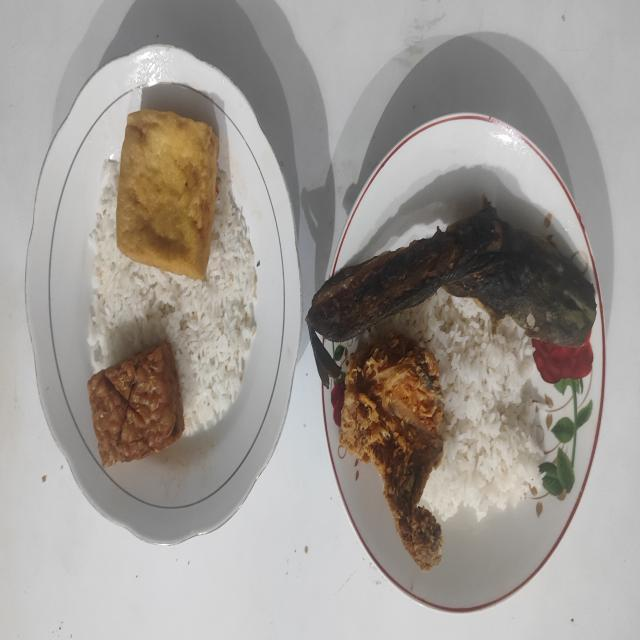nasi_putih: (88, 160, 256, 436), (371, 288, 545, 522)
tahu_goreng: (116, 110, 219, 278)
tempe_goreng: (88, 342, 184, 466)
